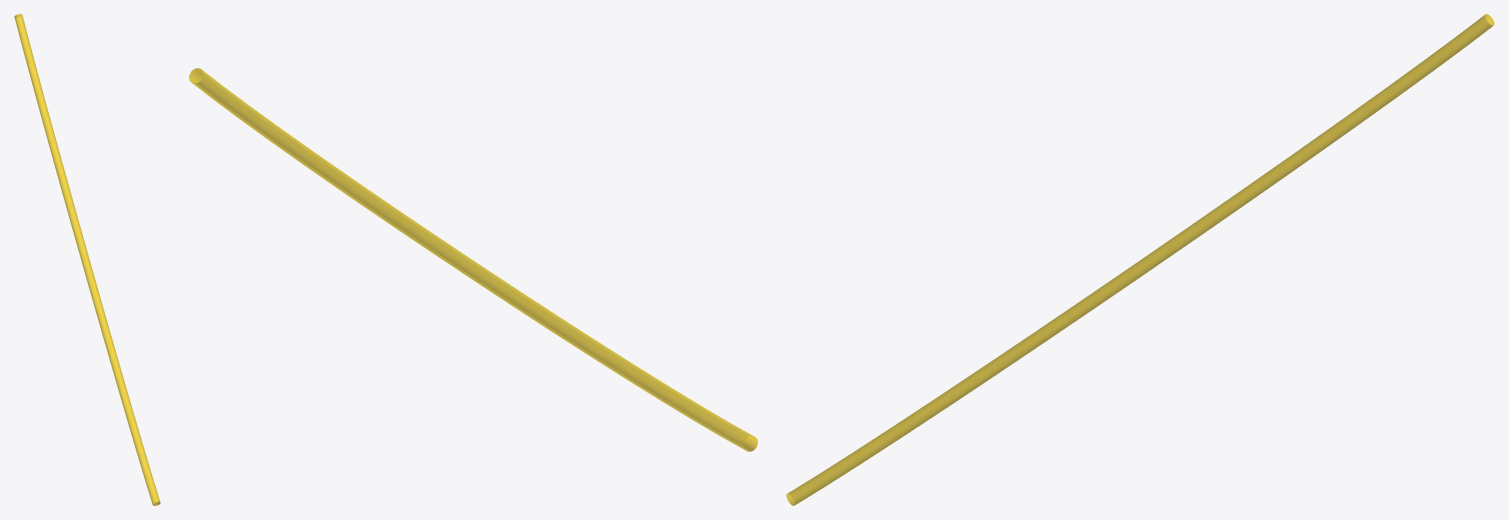
Rendered from Event_75125125_track_16.fbx.
3 renders of one model, left to right at view 1: azimuth 30°, elevation 25°; view 2: azimuth 150°, elevation 25°; view 3: azimuth 270°, elevation 25°, orthographic. The views are drawn at different scales.
Parts seen in each view (by area): view 1: Model; view 2: Model; view 3: Model.
Part boxes in pixels (x1,y1,x2,y2): Model: (14,14,160,505); Model: (189,68,757,451); Model: (786,14,1494,505).
Bounding box in the file's own units: 0.4227 × 1.71 × 2.01.
